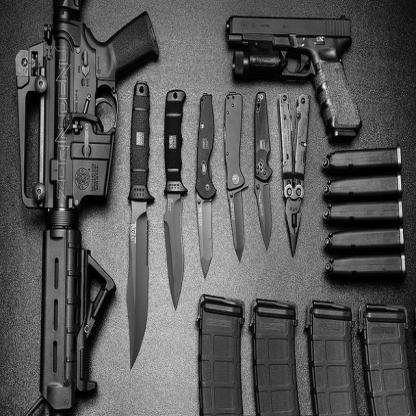Gun: (12, 0, 160, 416)
Knife: (126, 80, 157, 371), (162, 88, 188, 313), (222, 89, 250, 264), (194, 92, 218, 281), (253, 89, 275, 254)
Pistol: (223, 9, 363, 146)
